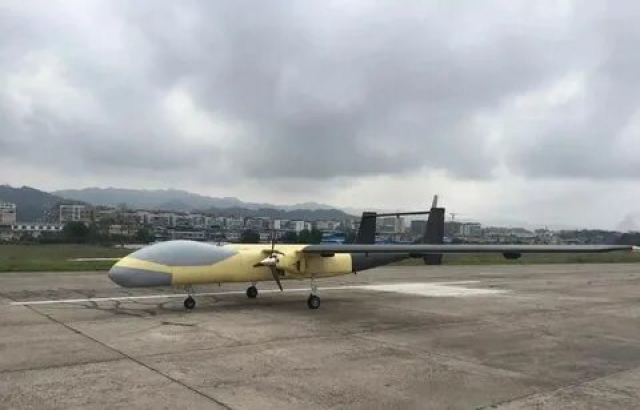military drone: (66, 207, 632, 309)
